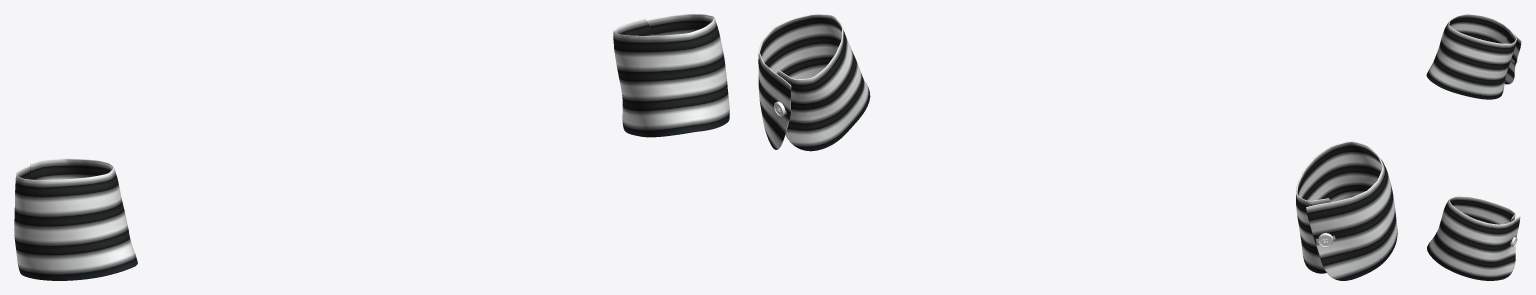
File: 1_Button_Rounded.glb
The picture shows the model from 3 angles, left to right: view 1: azimuth 30°, elevation 25°; view 2: azimuth 150°, elevation 25°; view 3: azimuth 270°, elevation 25°; orthographic projection. The views are drawn at different scales.
Parts seen in each view (by area): view 1: Pattern_2052443_Node, Pattern_2052444_Node; view 2: Pattern_2052444_Node, Pattern_2052443_Node; view 3: Pattern_2052444_Node, Pattern_2052443_Node.
Part boxes in pixels (x1,y1,x2,y2): Pattern_2052443_Node: [14, 158, 137, 280]; Pattern_2052444_Node: [613, 14, 729, 137]; Pattern_2052444_Node: [758, 14, 870, 151]; Pattern_2052443_Node: [1296, 141, 1397, 280]; Pattern_2052444_Node: [1427, 196, 1520, 280]; Pattern_2052443_Node: [1426, 14, 1521, 99].
Bounding box in the file's own units: 60.26 × 9.99 × 11.69.
Materials: 8 (4 with a texture image).
